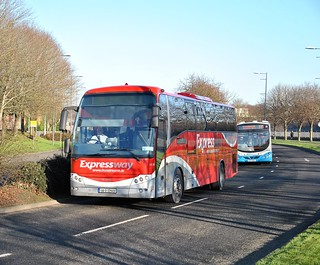bus: (69, 85, 238, 204), (237, 121, 273, 164)
